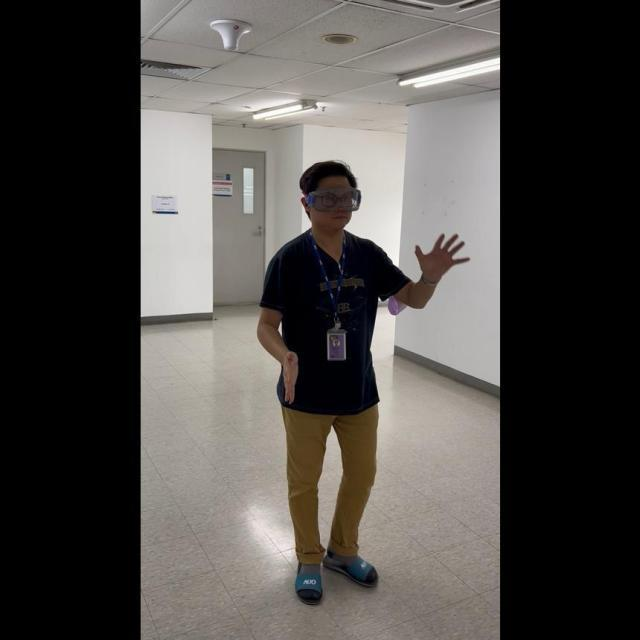bare_hand: (412, 227, 467, 281), (276, 347, 298, 406)
